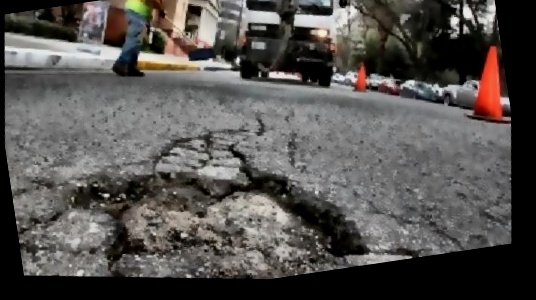pothole: (50, 119, 385, 300)
